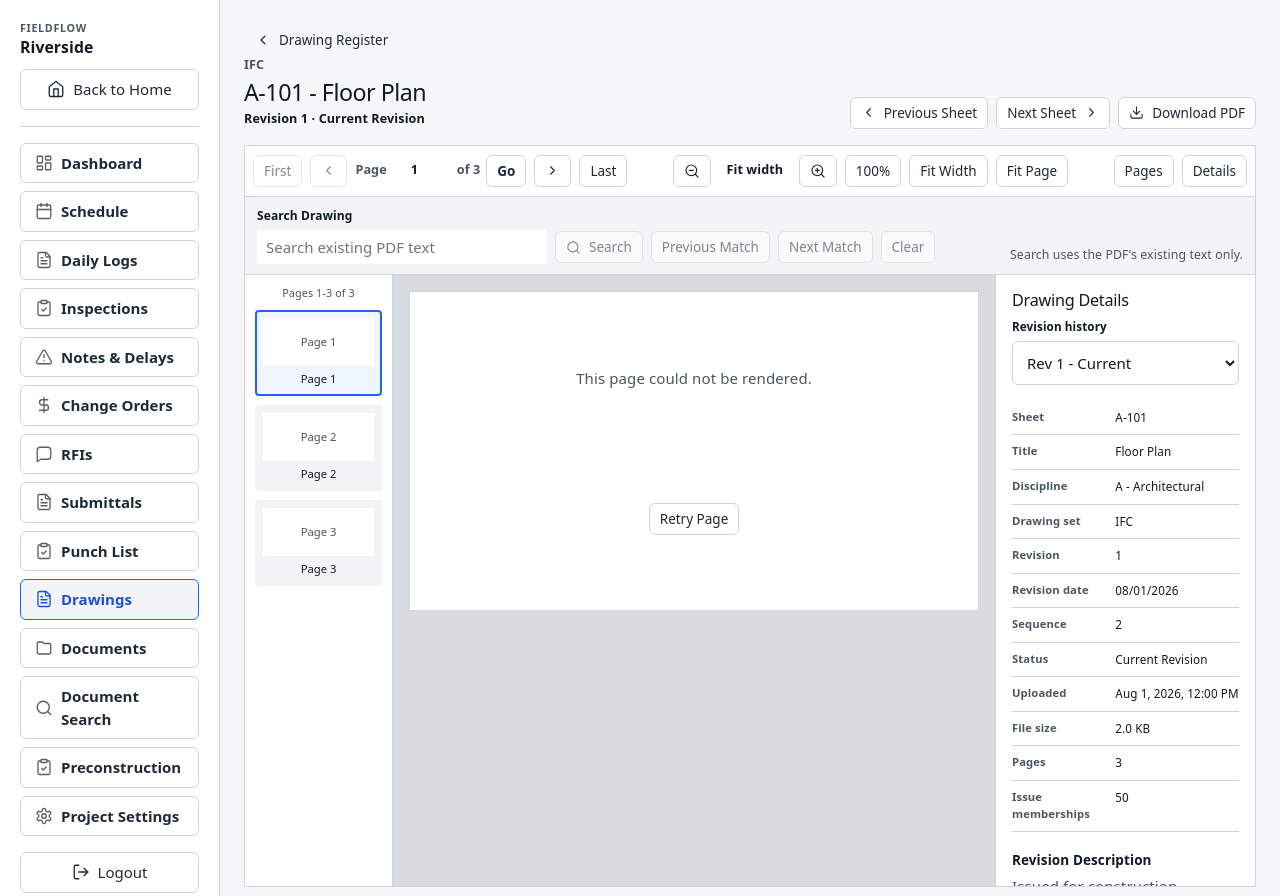
Test: ProjectDrawingViewerPage › collapses page and metadata panels without disabling the viewer
The width and height of the screenshot is (1280, 896).
Click the button "Pages": (1144, 171) [1114,155,1174,187]
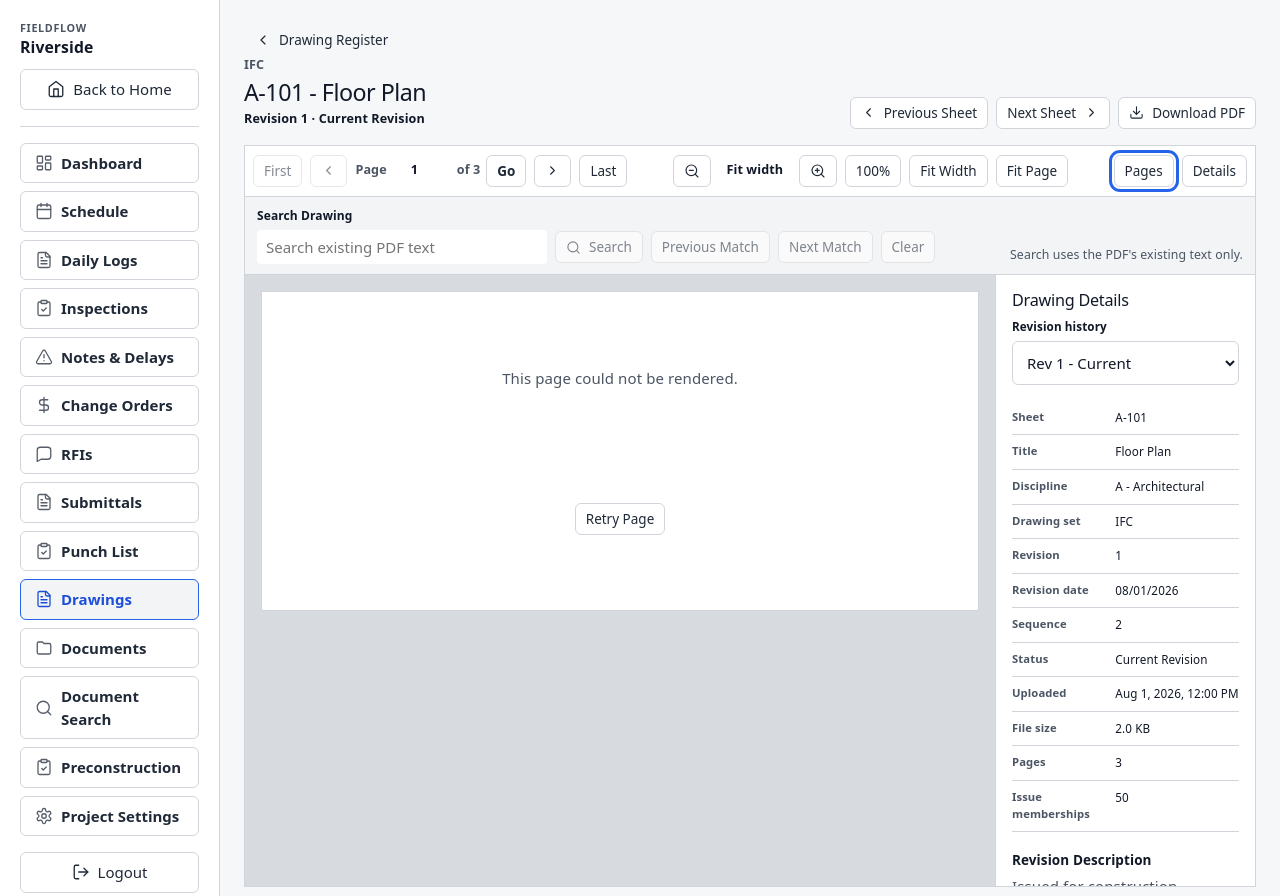
Click the button "Details": (1214, 171) [1182,155,1247,187]
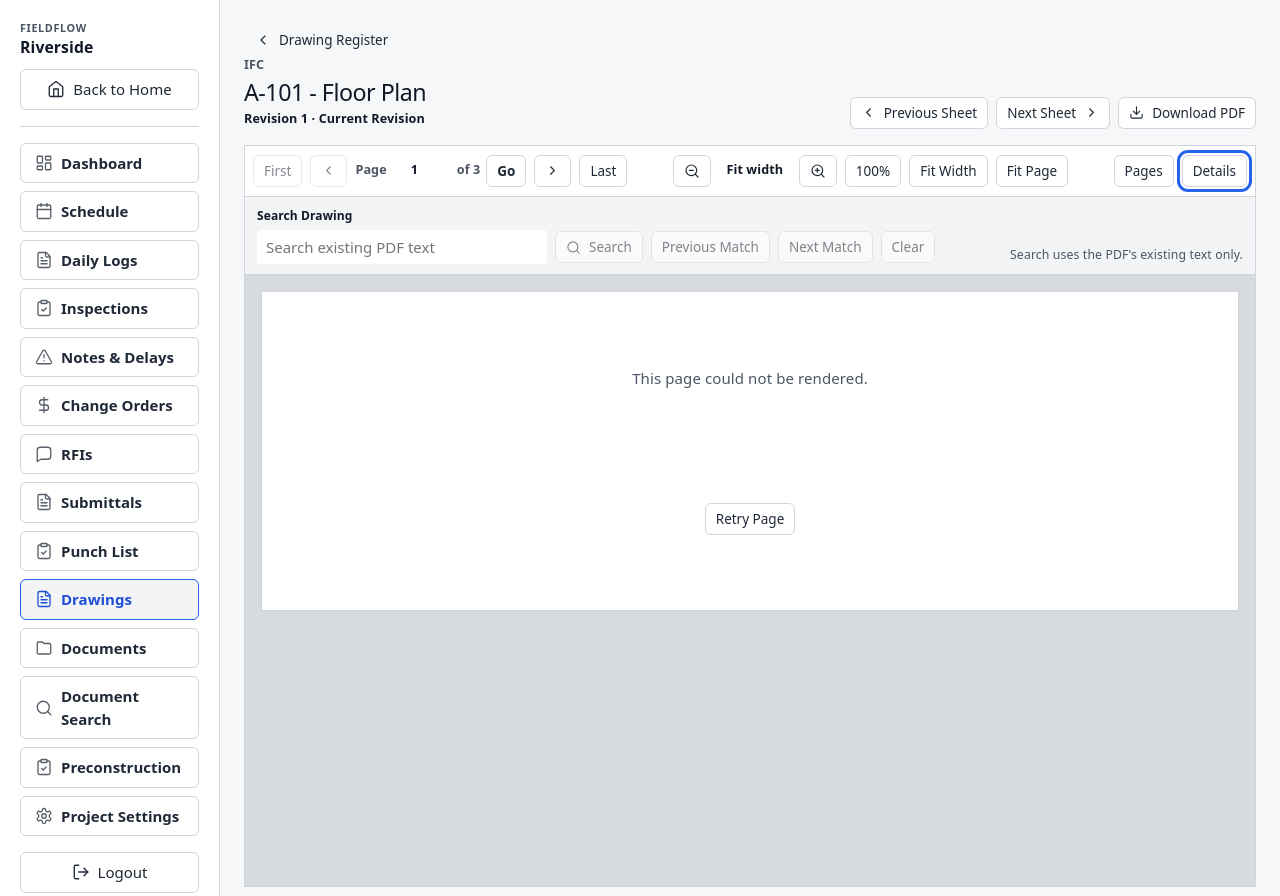
Expected: the element named "Drawing PDF viewport" is shown, [261,291,1239,611]
Expected: the heading "Drawing Details" is gone
